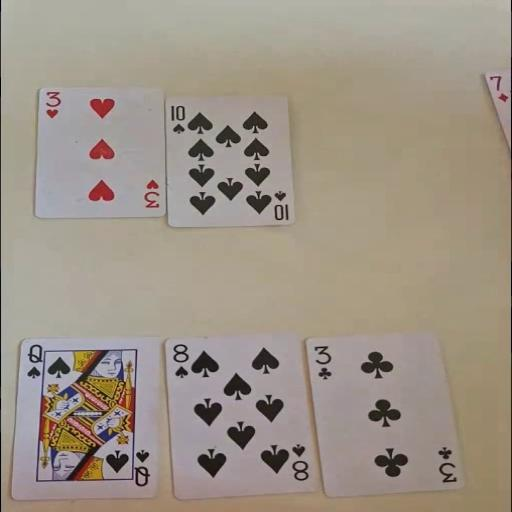10: (271, 189, 289, 221), (170, 103, 188, 135)
3: (434, 445, 458, 484), (311, 344, 333, 380), (141, 177, 161, 209), (42, 90, 62, 120)
7: (486, 73, 510, 103)
8: (288, 441, 310, 482), (171, 341, 190, 379)
Q: (131, 448, 151, 488), (24, 342, 44, 380)
